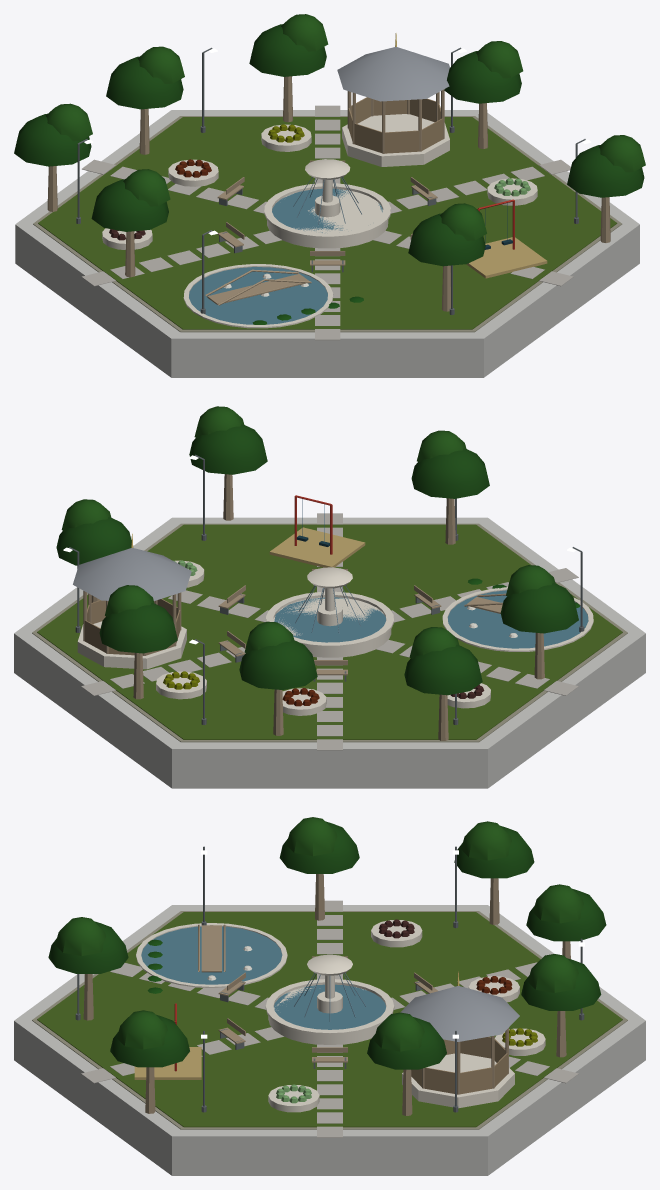
File: park.glb
3 renders of one model, top to bottom at view 1: azimuth 30°, elevation 25°; view 2: azimuth 150°, elevation 25°; view 3: azimuth 270°, elevation 25°, orthographic.
Parts seen in each view (by area): view 1: turf, wall_concrete, leaf, stone, wood, gravel, glass, roof_slate, pavers, sandbag, steel_dark; view 2: turf, wall_concrete, leaf, stone, gravel, wood, glass, roof_slate, pavers, sandbag, steel_dark, paint; view 3: turf, wall_concrete, leaf, stone, glass, wood, gravel, roof_slate, pavers, steel_dark, sandbag.
Part boxes in pixels (x1,y1,x2,y2): turf: [38, 117, 617, 329]; wall_concrete: [15, 110, 639, 377]; leaf: [14, 14, 645, 324]; stone: [102, 114, 537, 328]; wood: [47, 76, 610, 311]; gravel: [82, 105, 573, 340]; glass: [189, 177, 382, 324]; roof_slate: [337, 47, 449, 101]; pavers: [33, 116, 622, 332]; sandbag: [466, 237, 547, 278]; steel_dark: [76, 47, 585, 314]; turf: [37, 524, 622, 739]; wall_concrete: [14, 517, 645, 788]; leaf: [56, 406, 579, 706]; stone: [77, 560, 593, 715]; gravel: [81, 513, 578, 750]; wood: [83, 474, 544, 740]; glass: [274, 585, 588, 648]; roof_slate: [73, 548, 191, 600]; pavers: [32, 523, 627, 742]; sandbag: [269, 527, 365, 567]; steel_dark: [69, 454, 584, 724]; paint: [294, 495, 517, 637]; turf: [37, 912, 622, 1127]; wall_concrete: [14, 905, 645, 1175]; leaf: [48, 817, 606, 1103]; stone: [136, 920, 545, 1112]; glass: [141, 926, 385, 1029]; wood: [83, 874, 570, 1115]; gravel: [81, 900, 578, 1137]; roof_slate: [400, 986, 519, 1041]; pavers: [32, 911, 627, 1129]; steel_dark: [75, 846, 584, 1112]; sandbag: [134, 1047, 201, 1079].
Bounding box in the file's own units: 21.8 × 6.6 × 24.6.
